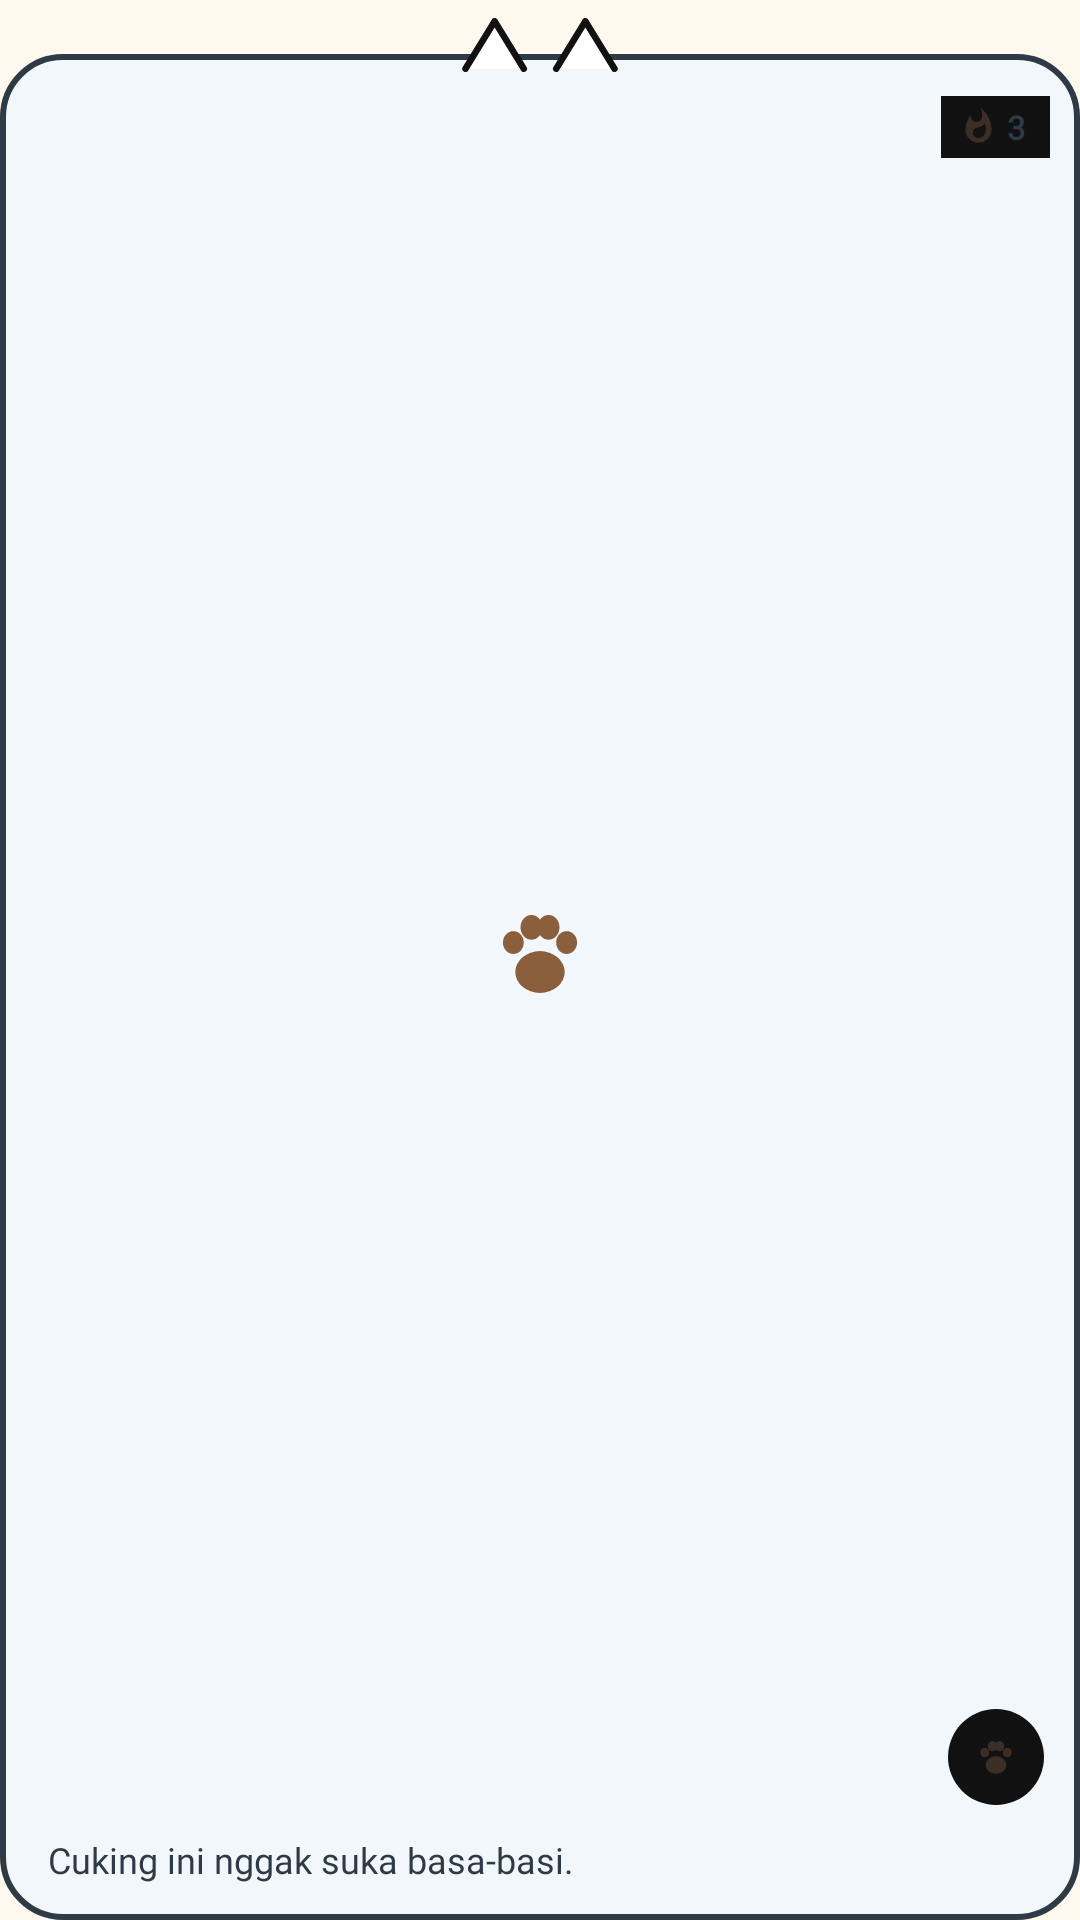

Point at icon controls on the screen. Image size 1080×1920, points as [x,y].
widget ears: [540,45]
widget flame: [978,126]
widget paw: [540,954]
widget paw ink: [996,1757]
